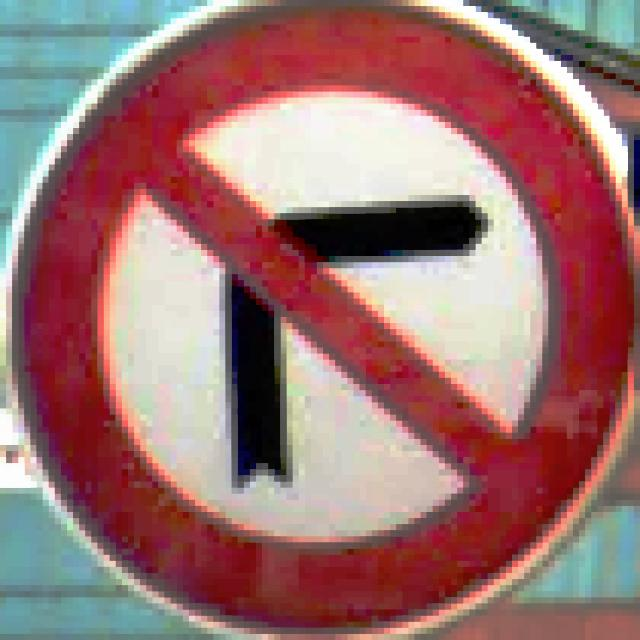noturnright: (0, 0, 634, 634)
